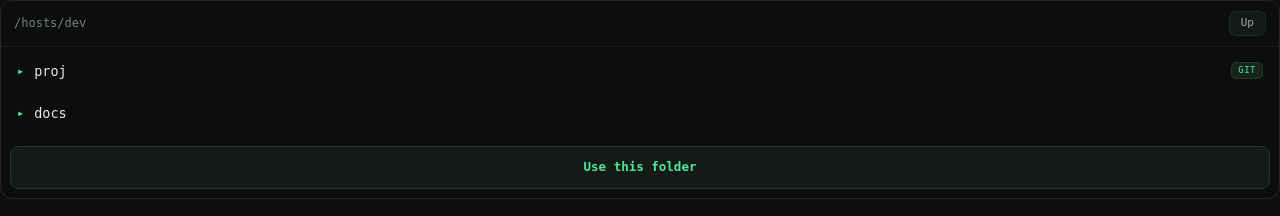
Scenario: DirectoryPicker › goes from a browse root UP TO THE ROOT LIST, not its filesystem parent
The width and height of the screenshot is (1280, 216).
Expected: the button with aria-label "Open proj" is shown, [6, 52, 1274, 90]
Click the button "Up" at (1247, 23), box [1229, 11, 1266, 36]
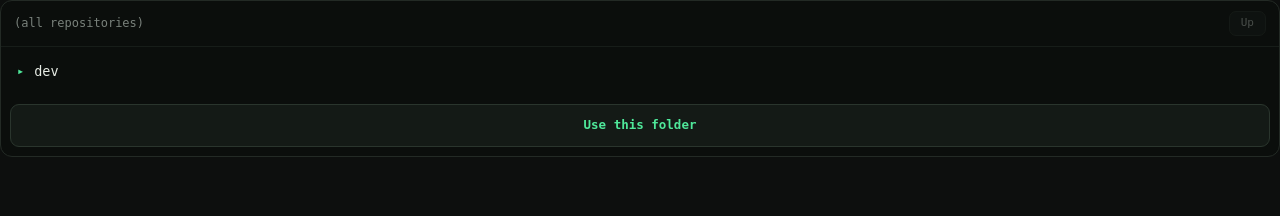
Expected: the button with aria-label "Open dev" is shown, [6, 52, 1274, 90]
Expected: the text with test id "directory-current" reads "(all repositories)", [14, 16, 144, 30]
